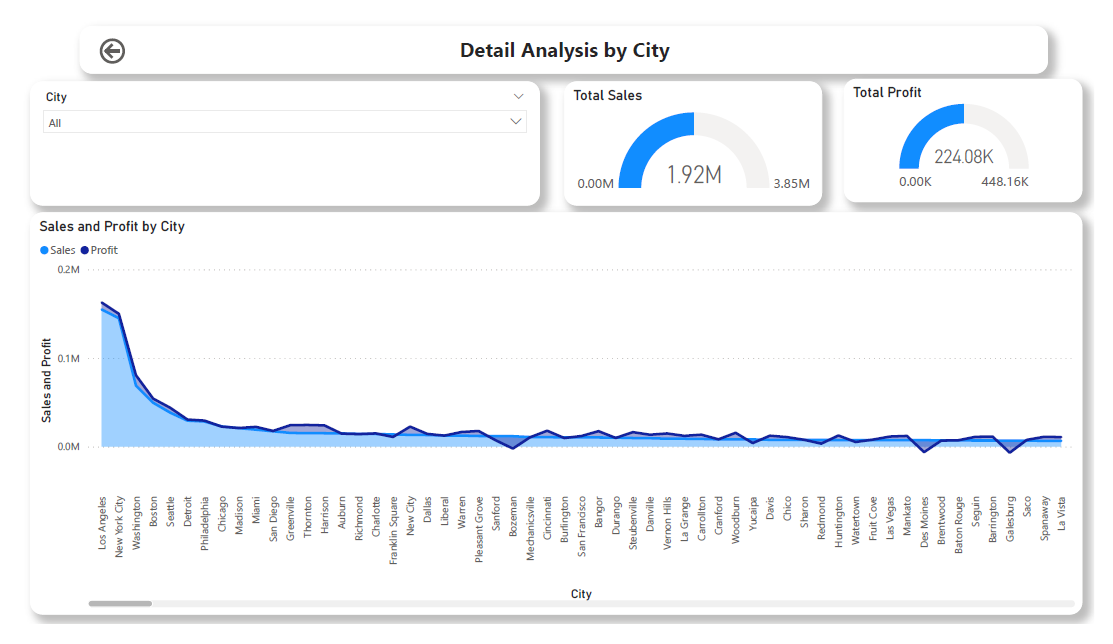

What the dashboard file says about the page in this screenshot:
{"tool":"powerbi","page":{"name":"Detail Analysis by City","canvas":[1280,720],"ordinal":2},"visuals":[{"type":"textbox","box":[72.4,8.4,1153,56.7],"z":0},{"type":"slicer","fields":{"Values":["Order Details.City"]},"box":[13.3,73.6,606.6,148.3],"z":1000},{"type":"gauge","fields":{"Y":["Order Details.Total Sales"]},"box":[648.8,73.6,307.5,148.3],"z":2000},{"type":"gauge","fields":{"Y":["Order Details.Total Profit"]},"box":[981.7,71.2,284.6,147.1],"z":3000},{"type":"stackedAreaChart","fields":{"Y":["Sum(Order Details.Sales)","Sum(Order Details.Profit)"],"Category":["Order Details.City"]},"box":[13.3,230.4,1253.1,478.8],"z":4000},{"type":"actionButton","box":[90.6,17.9,42.6,39.8],"z":5001}]}

Visuals, with their boxes in screenshot pixels (x1, y1, x2, y2), scaled from the page's 1280x720 canvas onto the 1113x644 screenshot:
textbox: BBox(63, 8, 1066, 58)
slicer - Order Details.City: BBox(12, 66, 539, 198)
gauge - Order Details.Total Sales: BBox(564, 66, 832, 198)
gauge - Order Details.Total Profit: BBox(854, 64, 1101, 195)
stackedAreaChart - Sum(Order Details.Sales) x Sum(Order Details.Profit): BBox(12, 206, 1101, 634)
actionButton: BBox(79, 16, 116, 52)
